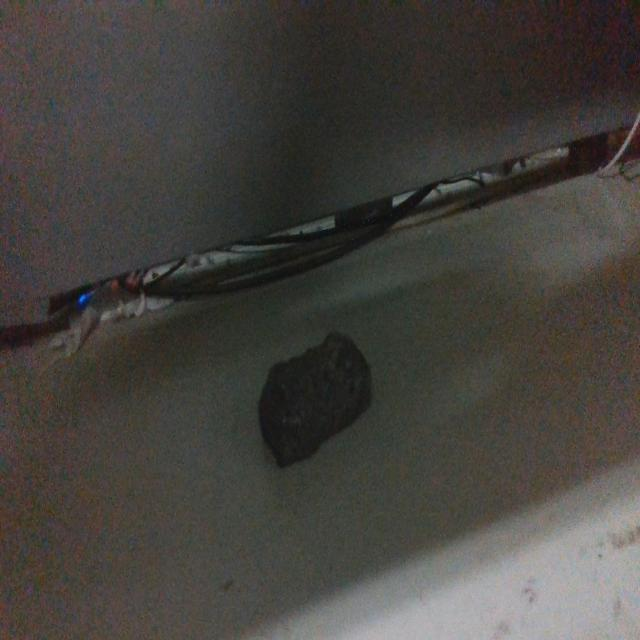stone: (257, 327, 372, 469)
